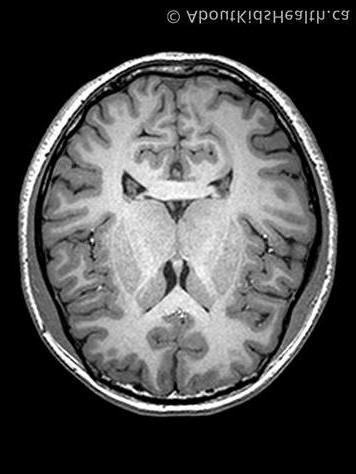Normal_Brain: (21, 8, 356, 474)
